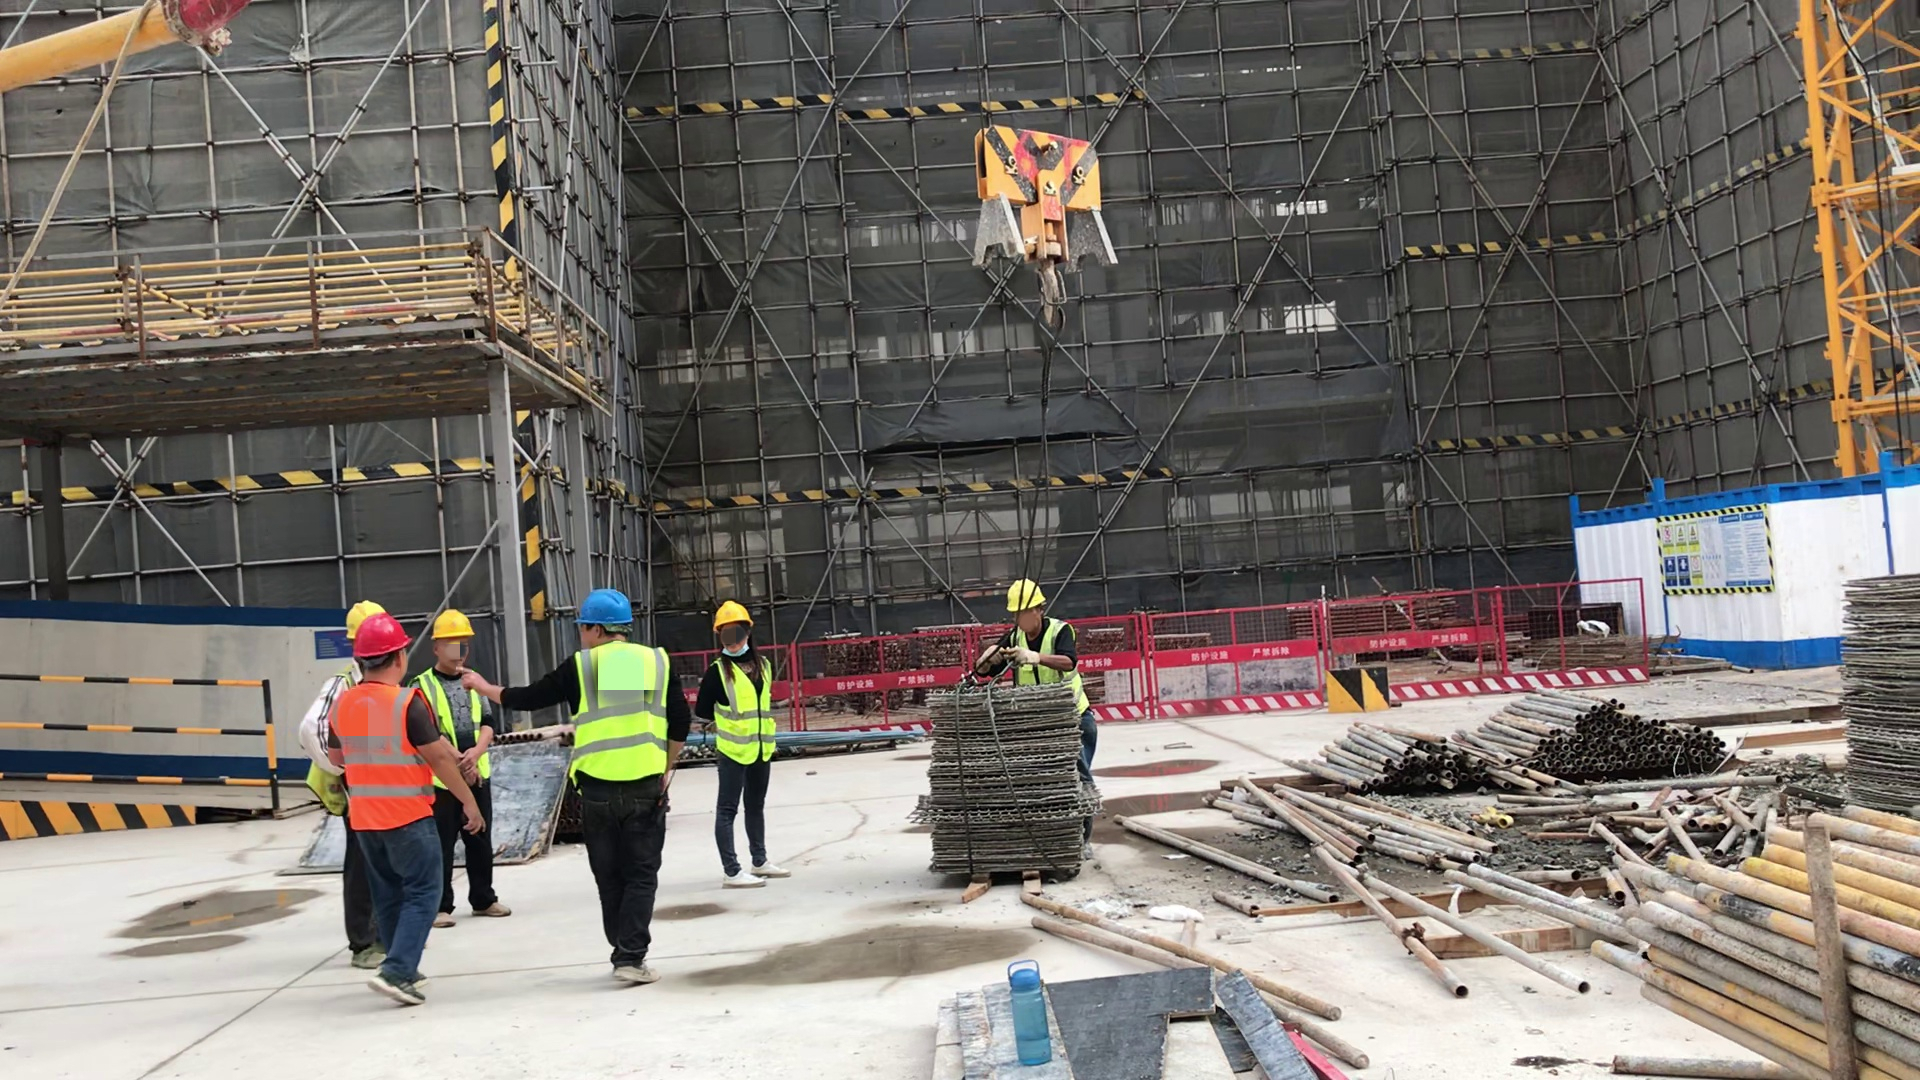fence: (797, 577, 1648, 742)
helmet: (351, 611, 406, 657), (575, 588, 635, 627), (1005, 574, 1046, 614), (711, 596, 754, 631), (431, 607, 474, 639)
hook: (969, 118, 1119, 334)
person: (454, 587, 693, 988), (328, 612, 490, 1007), (300, 600, 401, 969), (407, 610, 514, 929), (973, 580, 1097, 846), (694, 599, 794, 890)
scaffold: (932, 687, 1074, 879), (1844, 579, 1920, 820)
vest: (333, 683, 438, 829), (571, 642, 674, 784), (423, 672, 493, 781), (715, 653, 778, 764), (1009, 620, 1086, 710)
